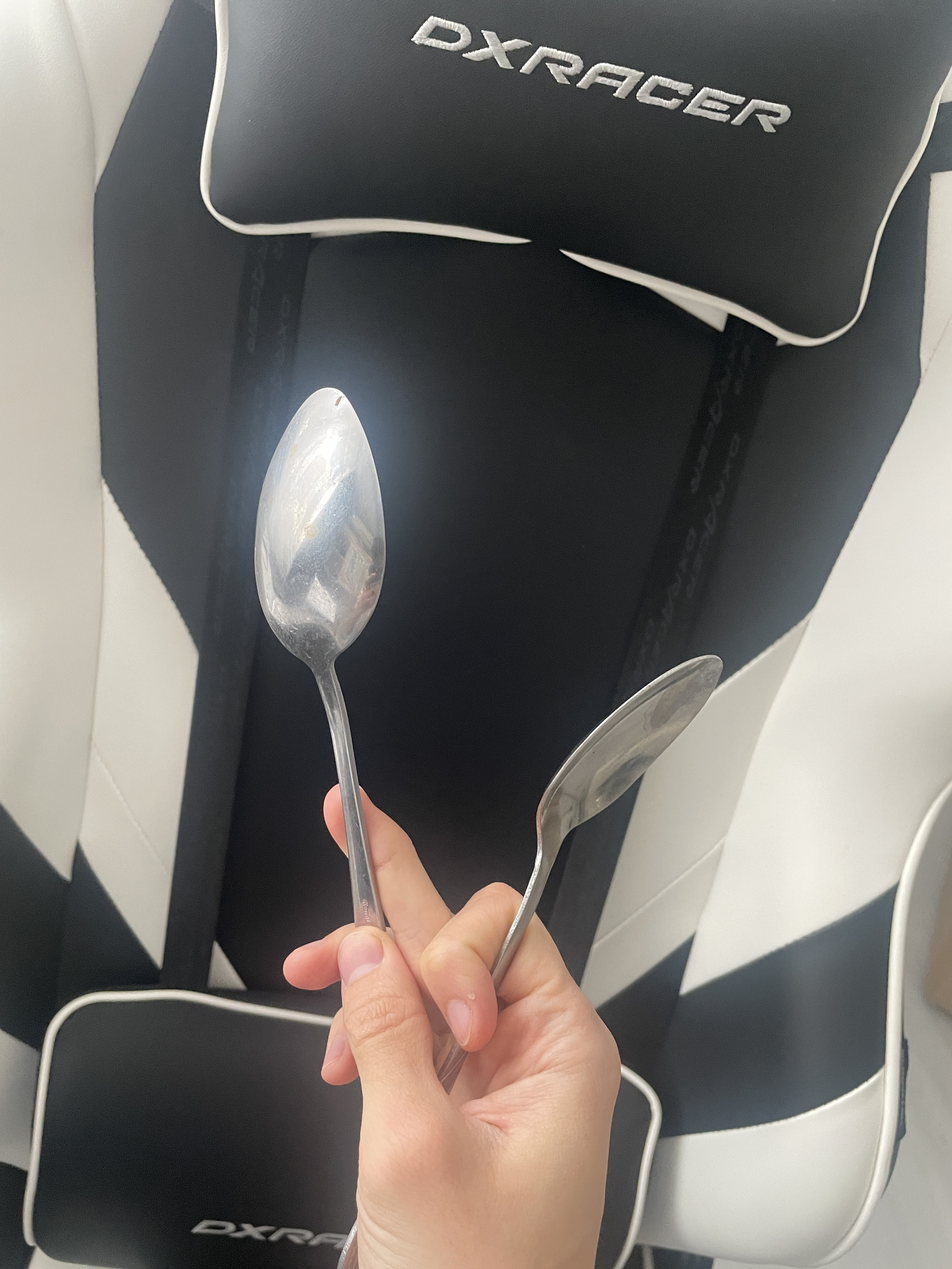spoon: (439, 655, 723, 1084), (254, 388, 386, 928)
